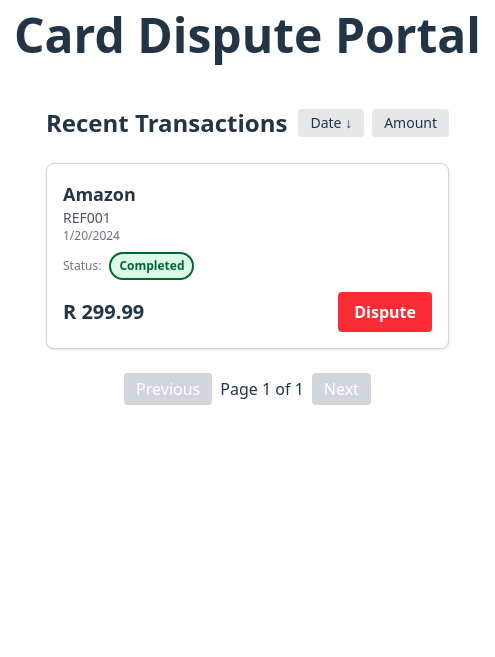
Test: Home › opens dispute form when dispute button clicked
This screenshot has width=495, height=657.
Click the button "Dispute": (385, 312) top-left (338, 292), bottom-right (432, 332)
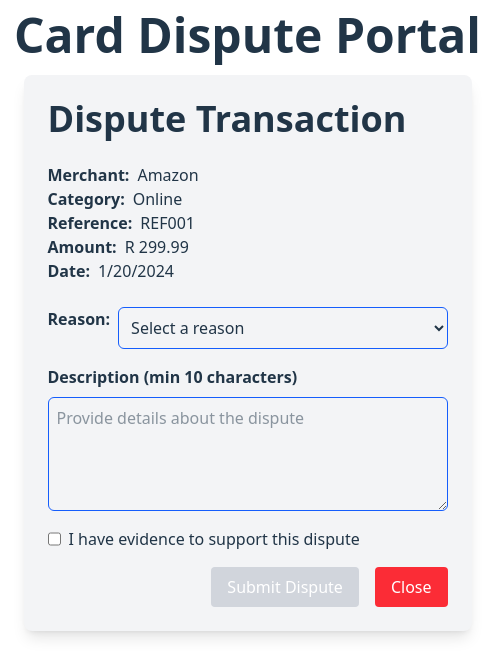
Result: the text "Dispute Transaction" is shown at top-left (48, 99), bottom-right (448, 139)
